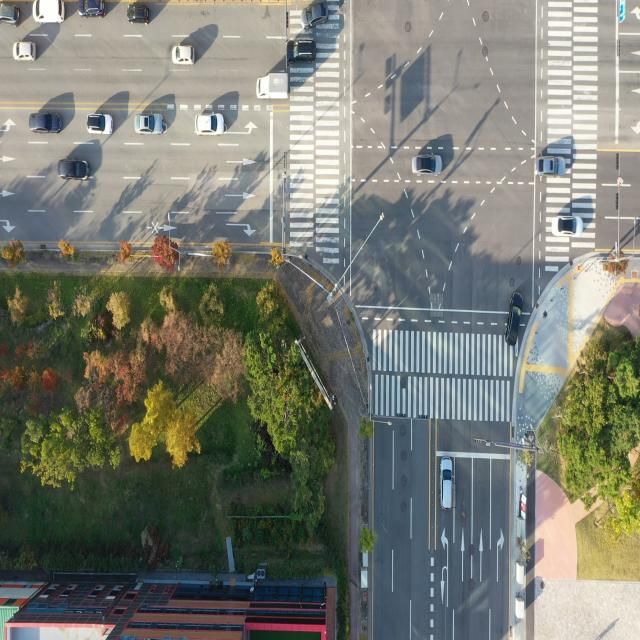car: (503, 288, 526, 350), (549, 210, 586, 240), (535, 153, 567, 183), (32, 0, 66, 27), (196, 110, 227, 138), (303, 0, 331, 30), (440, 455, 454, 511), (134, 110, 164, 136), (29, 111, 61, 135), (60, 159, 90, 184), (77, 0, 108, 24), (88, 111, 114, 139), (11, 39, 36, 66), (128, 0, 152, 28), (412, 155, 440, 178), (287, 41, 317, 62), (170, 44, 197, 66), (0, 2, 22, 26)
small_truck: (254, 74, 287, 102)
